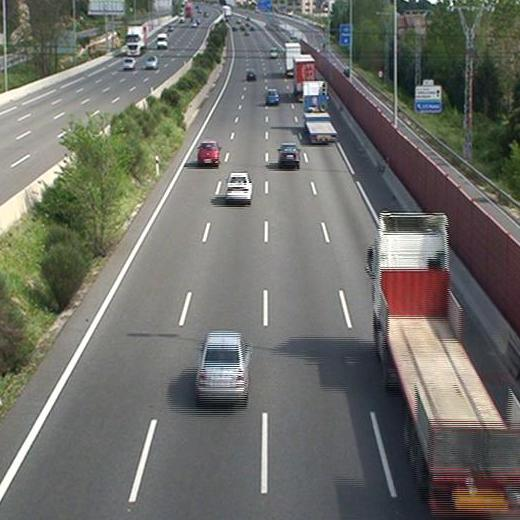car: (197, 334, 254, 406), (226, 174, 252, 203), (197, 142, 221, 169), (278, 144, 300, 166), (265, 90, 279, 106), (245, 69, 255, 82)
truck: (363, 211, 520, 512), (304, 79, 338, 143), (292, 57, 314, 98), (284, 43, 301, 75)
